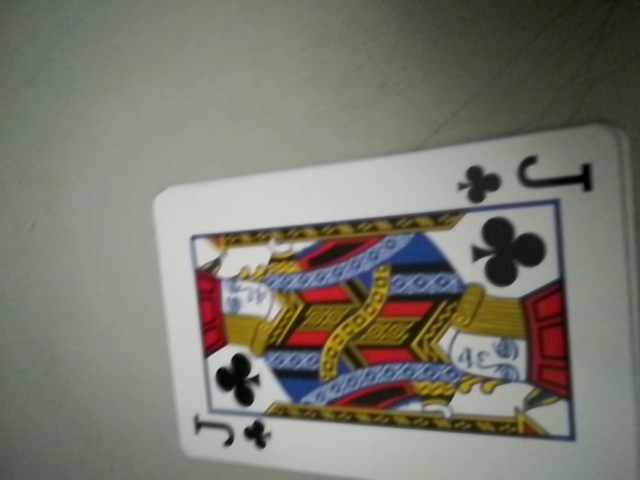mh j: (456, 147, 596, 209), (188, 408, 274, 457)
